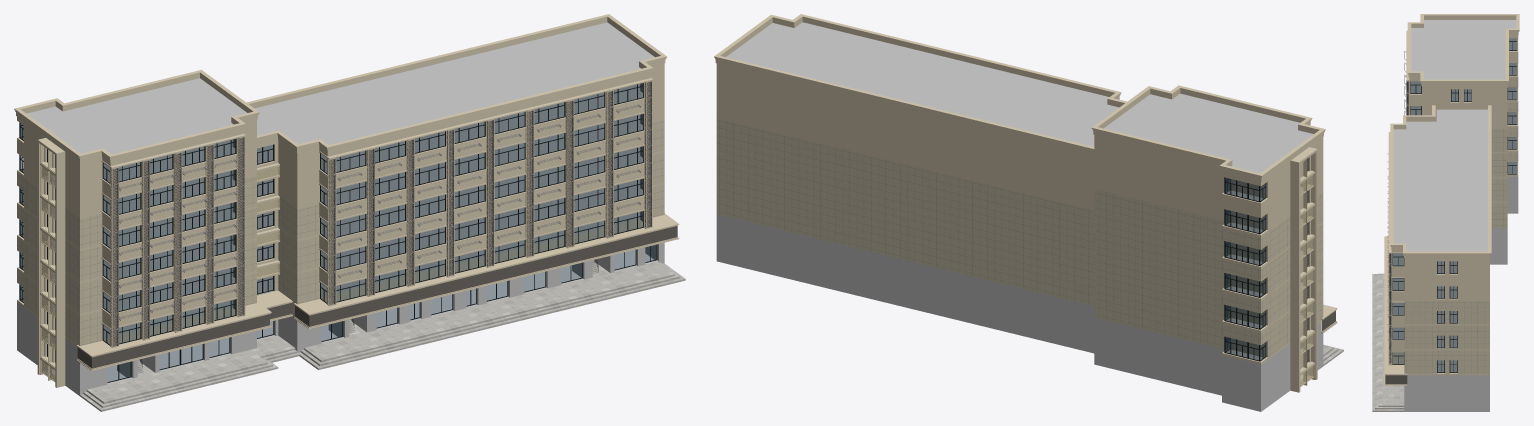
The model's file is lou117.FBX.
The picture shows the model from 3 angles, left to right: view 1: azimuth 30°, elevation 25°; view 2: azimuth 150°, elevation 25°; view 3: azimuth 270°, elevation 25°; orthographic projection. The views are drawn at different scales.
Parts seen in each view (by area): view 1: lou117; view 2: lou117; view 3: lou117.
Part boxes in pixels (box(x1,y1,x2,y2)): lou117: box(14, 14, 685, 411); lou117: box(714, 14, 1343, 411); lou117: box(1372, 14, 1519, 411).
Bounding box in the file's own units: 52750 × 20850 × 15149.
